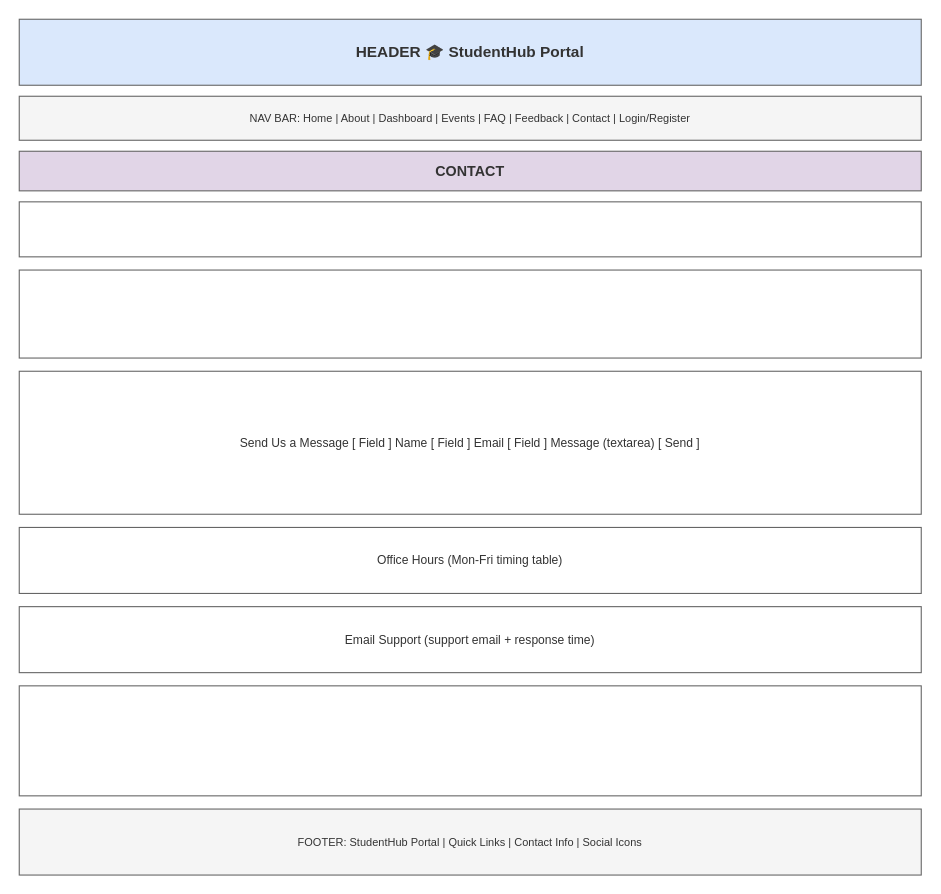
Some shapes in this 941 by 894 pixel diagram are drawn without their labels. Here are the shapes that lost their labels. From the top down, the box of each, then its label:
(18, 201, 921, 257): Contact Us (page heading)
(18, 269, 921, 358): Contact Information (address, phone, email, social icons)
(18, 685, 921, 796): Find Us (embedded Google Map)
